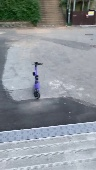beam: (30, 60, 44, 99)
